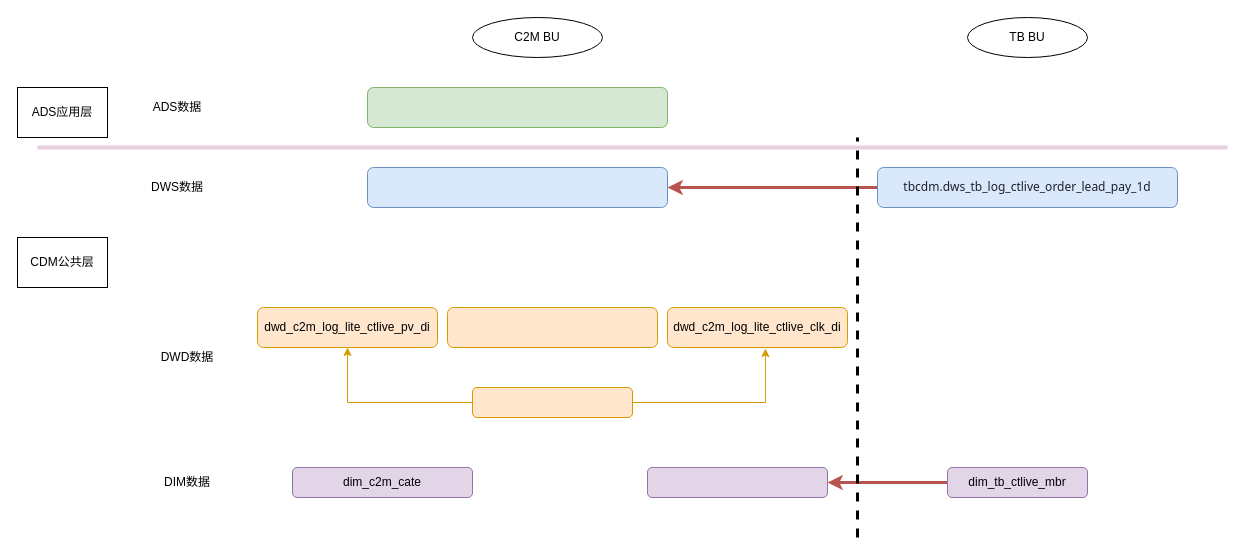
Some shapes in this 1248 by 557 pixel diagram are drawn without their labels. The centre of each missing label's shape, as x and y in pixels:
"ads_c2m_goth_ctlive_user_group_prefer_d" goes at point 517,107.
"c2m_dt_dws_tb_log_ctlive_order_lead_pay_1d_view" goes at point 517,187.
"dim_c2m_lite_seller" goes at point 737,482.
"dwd_c2m_log_lite_ctlive_lead_ipv_di" goes at point 552,327.
"dwd_c2m_log_ut_lite_di" goes at point 552,402.
